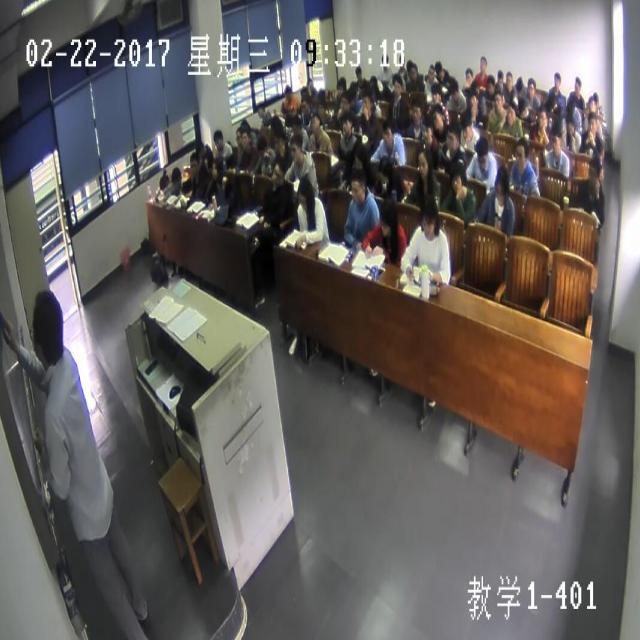person: (31, 287, 64, 362), (378, 194, 397, 238), (419, 195, 436, 236), (448, 162, 468, 192), (377, 154, 394, 188), (298, 177, 314, 213), (350, 169, 366, 203), (415, 148, 428, 183), (474, 137, 488, 169), (513, 138, 526, 171), (494, 166, 506, 201), (587, 156, 601, 186), (420, 112, 432, 146), (444, 123, 458, 152), (536, 105, 550, 132), (447, 74, 460, 102), (338, 118, 352, 142), (505, 100, 517, 128), (272, 162, 284, 188), (432, 102, 442, 132), (274, 141, 287, 164), (360, 93, 373, 116), (410, 97, 422, 121), (210, 157, 222, 181), (237, 119, 250, 141), (468, 88, 479, 114), (463, 64, 473, 92), (290, 138, 302, 161), (391, 73, 402, 98), (366, 74, 381, 92), (462, 111, 472, 138), (212, 127, 224, 149), (189, 152, 199, 178), (158, 169, 170, 190), (564, 117, 576, 138), (430, 81, 442, 102), (171, 166, 181, 191), (492, 91, 503, 113), (256, 127, 267, 149), (586, 114, 598, 134), (382, 121, 392, 143), (546, 92, 557, 112), (485, 73, 496, 93), (336, 76, 345, 100), (588, 96, 598, 117), (516, 97, 526, 118), (242, 127, 251, 150), (300, 85, 312, 102), (378, 53, 388, 73), (256, 100, 267, 118), (292, 114, 301, 135), (589, 90, 598, 111), (235, 127, 244, 147), (397, 54, 407, 72), (353, 66, 364, 82), (409, 64, 418, 82), (310, 112, 320, 128), (553, 69, 561, 89), (551, 132, 559, 152), (304, 75, 313, 92), (271, 115, 280, 132), (527, 77, 535, 96), (196, 140, 204, 158), (426, 62, 434, 80), (504, 69, 511, 89), (350, 77, 358, 94), (434, 60, 442, 77), (478, 56, 487, 70), (574, 74, 580, 95), (285, 85, 291, 102), (496, 68, 502, 85), (516, 75, 522, 90)
